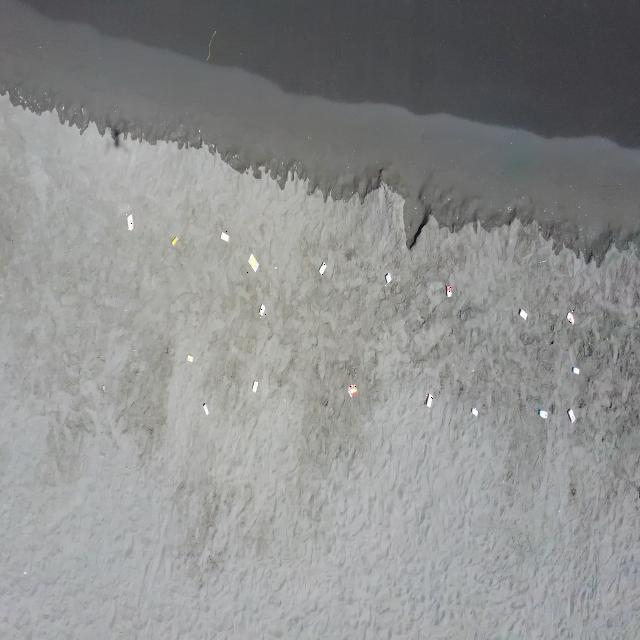Garbage: (206, 30, 216, 60), (247, 253, 258, 271), (536, 408, 547, 419), (424, 393, 432, 407), (517, 308, 527, 319), (347, 384, 356, 395), (568, 408, 575, 422), (444, 284, 452, 296), (127, 213, 132, 230), (384, 272, 391, 283), (319, 263, 326, 273), (259, 303, 264, 316), (220, 232, 227, 241), (567, 312, 572, 324), (172, 236, 178, 246), (572, 366, 579, 373), (252, 380, 256, 392), (203, 403, 207, 415), (187, 353, 192, 362), (471, 407, 476, 415), (100, 384, 103, 392), (23, 571, 26, 575), (273, 266, 276, 268)
